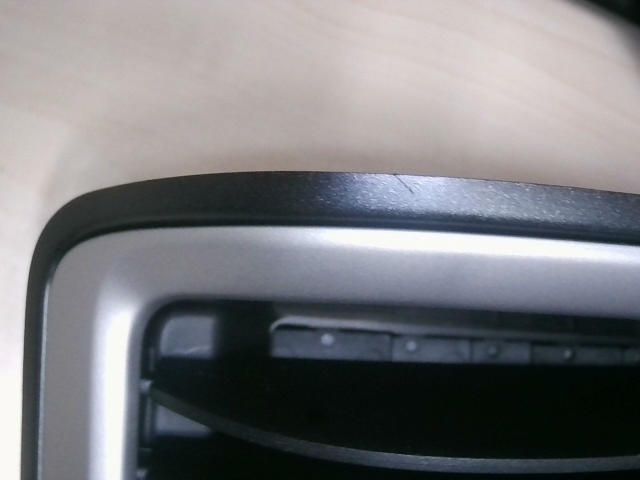NG: (384, 166, 422, 203)
